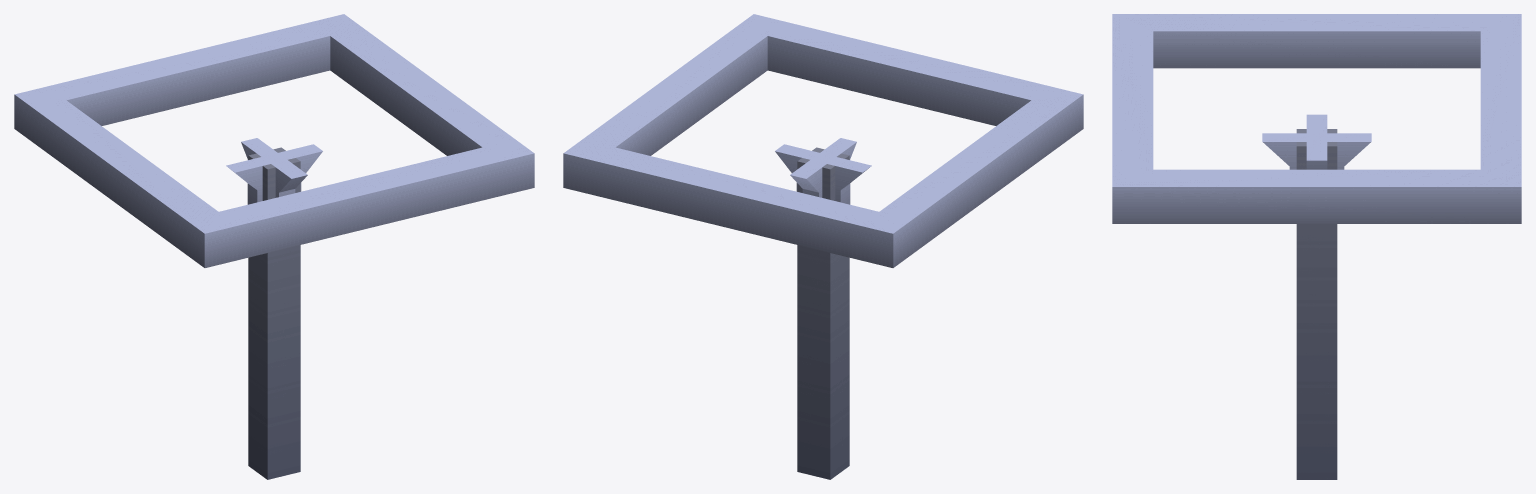
File: structure.glb
The picture shows the model from 3 angles, left to right: view 1: azimuth 30°, elevation 25°; view 2: azimuth 150°, elevation 25°; view 3: azimuth 270°, elevation 25°; orthographic projection. The views are drawn at different scales.
Parts seen in each view (by area): view 1: structure.005, structure.012, structure.011, structure.009, structure.001, structure.002, structure; view 2: structure.005, structure.011, structure.001, structure.002, structure.003, structure; view 3: structure.005, structure.009, structure.010, structure.006, structure.001, structure.003, structure.
Boxes of the visible parts, x1=… form: structure.005: x1=14, y1=14, x2=534, y2=267; structure.012: x1=248, y1=150, x2=300, y2=479; structure.011: x1=248, y1=155, x2=267, y2=479; structure.009: x1=263, y1=147, x2=300, y2=479; structure.001: x1=247, y1=144, x2=322, y2=204; structure.002: x1=226, y1=149, x2=301, y2=194; structure: x1=254, y1=147, x2=307, y2=195; structure.005: x1=563, y1=14, x2=1083, y2=267; structure.011: x1=797, y1=148, x2=849, y2=479; structure.001: x1=775, y1=144, x2=850, y2=204; structure.002: x1=796, y1=156, x2=871, y2=193; structure.003: x1=790, y1=157, x2=829, y2=195; structure: x1=802, y1=138, x2=856, y2=197; structure.005: x1=1112, y1=14, x2=1521, y2=223; structure.009: x1=1296, y1=129, x2=1337, y2=479; structure.010: x1=1296, y1=129, x2=1337, y2=479; structure.006: x1=1262, y1=138, x2=1344, y2=169; structure.001: x1=1306, y1=126, x2=1327, y2=169; structure.003: x1=1289, y1=133, x2=1371, y2=169; structure: x1=1262, y1=133, x2=1344, y2=140.
Size of the model in its own units: 3 by 3 by 3.
Materials: 1 (1 with a texture image).
